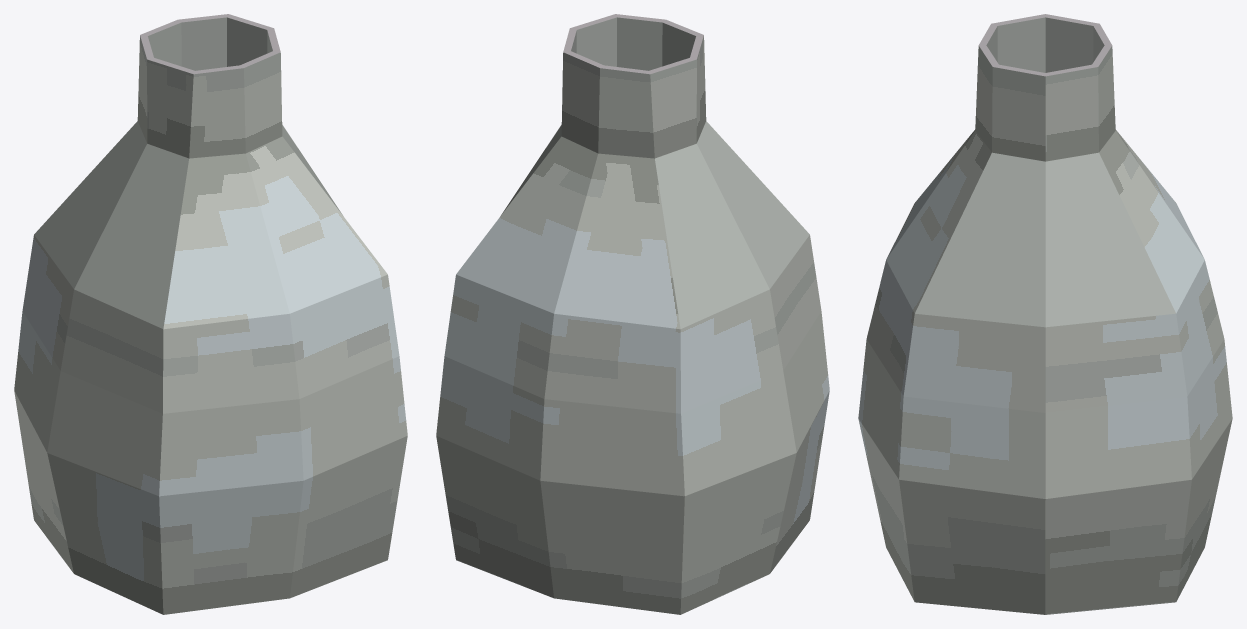
The model's file is tes2.fbx.
3 views of the same model, side by side, from view 1: azimuth 30°, elevation 25°; view 2: azimuth 150°, elevation 25°; view 3: azimuth 270°, elevation 25° (orthographic).
Parts seen in each view (by area): view 1: Cube.001; view 2: Cube.001; view 3: Cube.001.
Boxes of the visible parts, bbox=[...] form: Cube.001: bbox=[14, 14, 407, 614]; Cube.001: bbox=[436, 14, 829, 614]; Cube.001: bbox=[858, 14, 1232, 614].
Size of the model in its own units: 59.37 by 86.27 by 58.17.
Materials: 1 (1 with a texture image).
